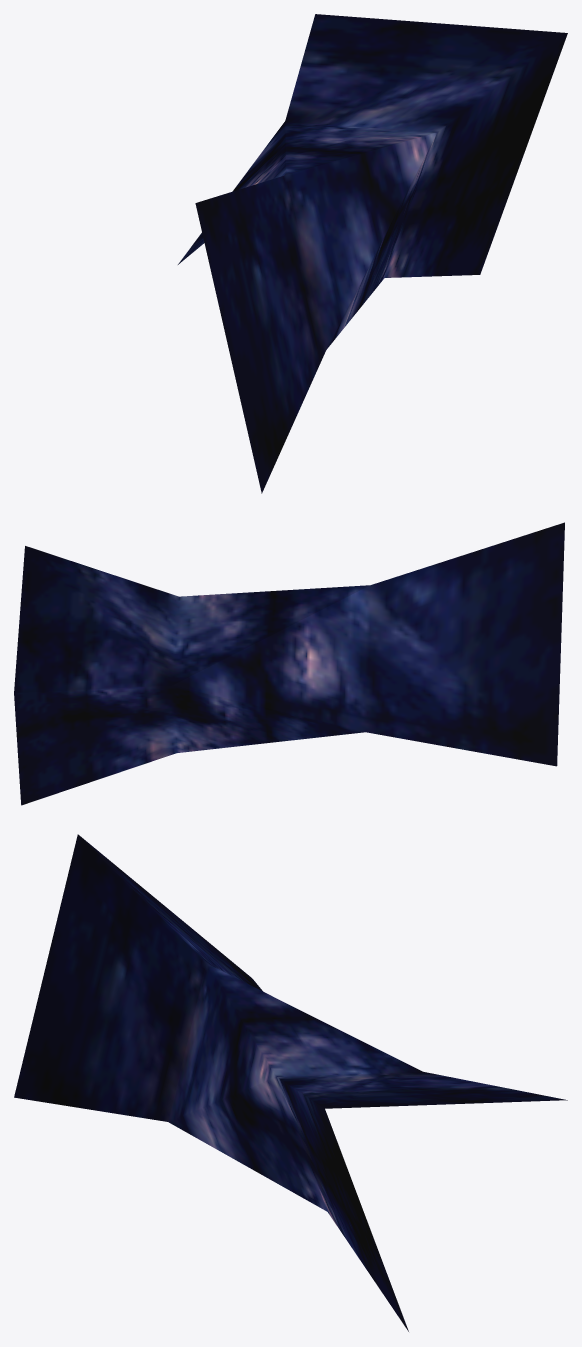
The picture shows the model from 3 angles, top to bottom: view 1: azimuth 30°, elevation 25°; view 2: azimuth 150°, elevation 25°; view 3: azimuth 270°, elevation 25°; orthographic projection. The views are drawn at different scales.
Visible parts, largest first — view 1: Object08; view 2: Object08; view 3: Object08.
Part boxes in pixels (x1,y1,x2,y2): Object08: [178, 14, 567, 493]; Object08: [14, 522, 564, 805]; Object08: [14, 834, 567, 1331].
Size of the model in its own units: 3708 by 1899 by 3278.
1 material, 1 textured.
